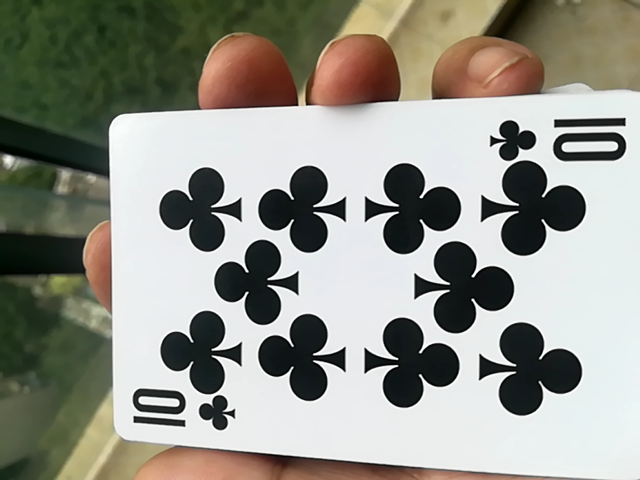mh 10: (98, 112, 635, 478)
